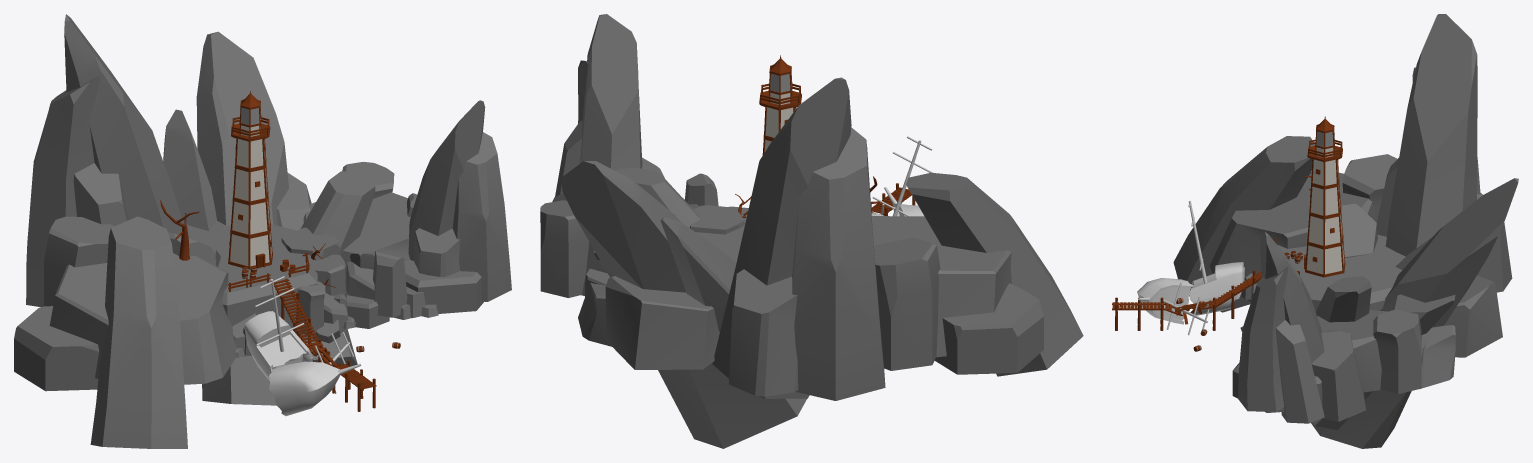
Rendered from Zone3_AbandonedLighthouse.fbx.
3 views of the same model, side by side, from view 1: azimuth 30°, elevation 25°; view 2: azimuth 150°, elevation 25°; view 3: azimuth 270°, elevation 25° (orthographic). The views are drawn at different scales.
Visible parts, largest first — view 1: rock_large_14, rock_huge_15, rock_huge_14, rock_huge_26, rock_large_27, lighthouse_off2, rock5014, rock_medium_55, shipwreck_half5, shipwreck_half6, rock5041, rock_medium_40 (+4 smaller); view 2: rock_huge_15, rock_large_14, rock_huge_14, rock_huge_26, rock_large_27, lighthouse_off2, rock_medium_40, rock_medium_55, rock5014, shipwreck_half6; view 3: rock_huge_15, rock_huge_14, rock_large_14, rock_huge_26, rock_large_27, lighthouse_off2, rock5014, shipwreck_half6, shipwreck_half5, rock_medium_40.
Part boxes in pixels (bbox=[...]): rock_large_14: bbox=[14, 216, 236, 448]; rock_huge_15: bbox=[26, 14, 183, 307]; rock_huge_14: bbox=[163, 31, 357, 405]; rock_huge_26: bbox=[408, 100, 511, 301]; rock_large_27: bbox=[300, 161, 417, 340]; lighthouse_off2: bbox=[228, 91, 272, 269]; rock5014: bbox=[178, 221, 317, 335]; rock_medium_55: bbox=[346, 250, 407, 328]; shipwreck_half5: bbox=[269, 332, 361, 416]; shipwreck_half6: bbox=[244, 276, 313, 381]; rock5041: bbox=[404, 260, 483, 313]; rock_medium_40: bbox=[281, 227, 346, 297]; rock_huge_15: bbox=[712, 77, 885, 400]; rock_large_14: bbox=[871, 172, 1083, 376]; rock_huge_14: bbox=[561, 161, 806, 448]; rock_huge_26: bbox=[555, 14, 664, 196]; rock_large_27: bbox=[540, 167, 700, 297]; lighthouse_off2: bbox=[759, 55, 801, 155]; rock_medium_40: bbox=[690, 205, 748, 234]; rock_medium_55: bbox=[685, 173, 718, 209]; rock5014: bbox=[695, 215, 746, 263]; shipwreck_half6: bbox=[871, 136, 932, 216]; rock_huge_15: bbox=[1377, 14, 1512, 292]; rock_huge_14: bbox=[1311, 178, 1518, 448]; rock_large_14: bbox=[1173, 136, 1397, 312]; rock_huge_26: bbox=[1238, 232, 1324, 423]; rock_large_27: bbox=[1312, 276, 1427, 421]; lighthouse_off2: bbox=[1304, 116, 1345, 277]; rock5014: bbox=[1277, 235, 1405, 310]; shipwreck_half6: bbox=[1188, 201, 1244, 315]; shipwreck_half5: bbox=[1137, 278, 1209, 335]; rock_medium_40: bbox=[1305, 280, 1335, 312].
Bounding box in the file's own units: 18062 × 15269 × 15616.
